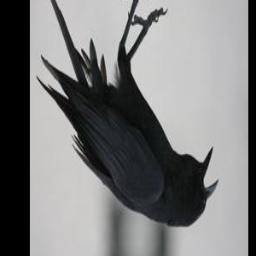Crow: (37, 0, 219, 230)
